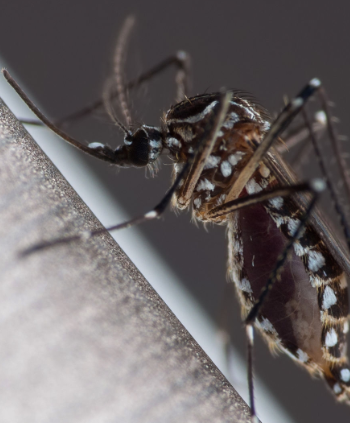dengue_mosquito: (3, 52, 349, 407)
